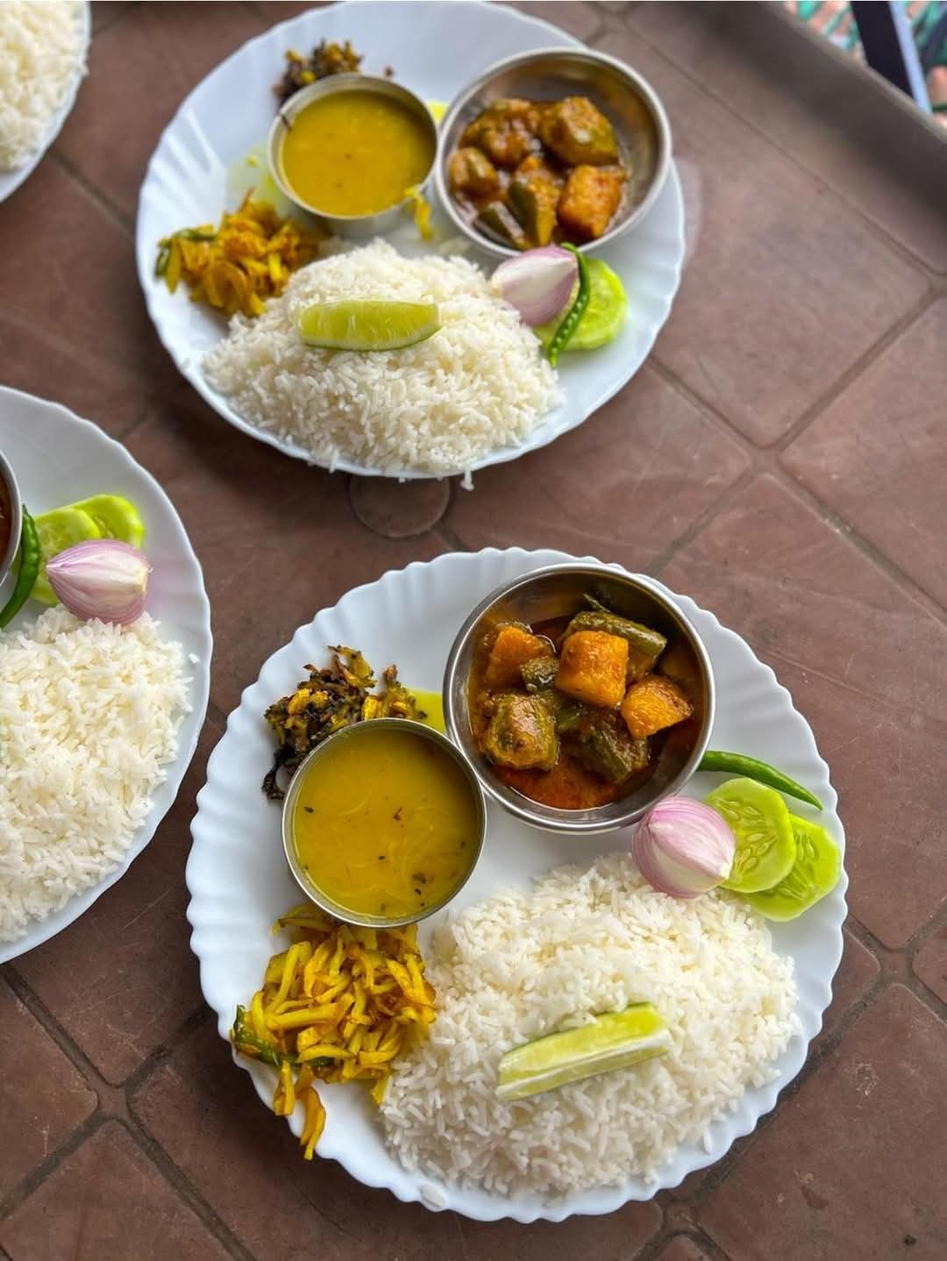bhat: (388, 856, 779, 1162), (205, 233, 543, 459), (0, 607, 183, 941)
dal: (292, 734, 468, 918), (285, 89, 430, 214)
sabji: (480, 612, 696, 814), (470, 94, 633, 231), (160, 205, 280, 296)
